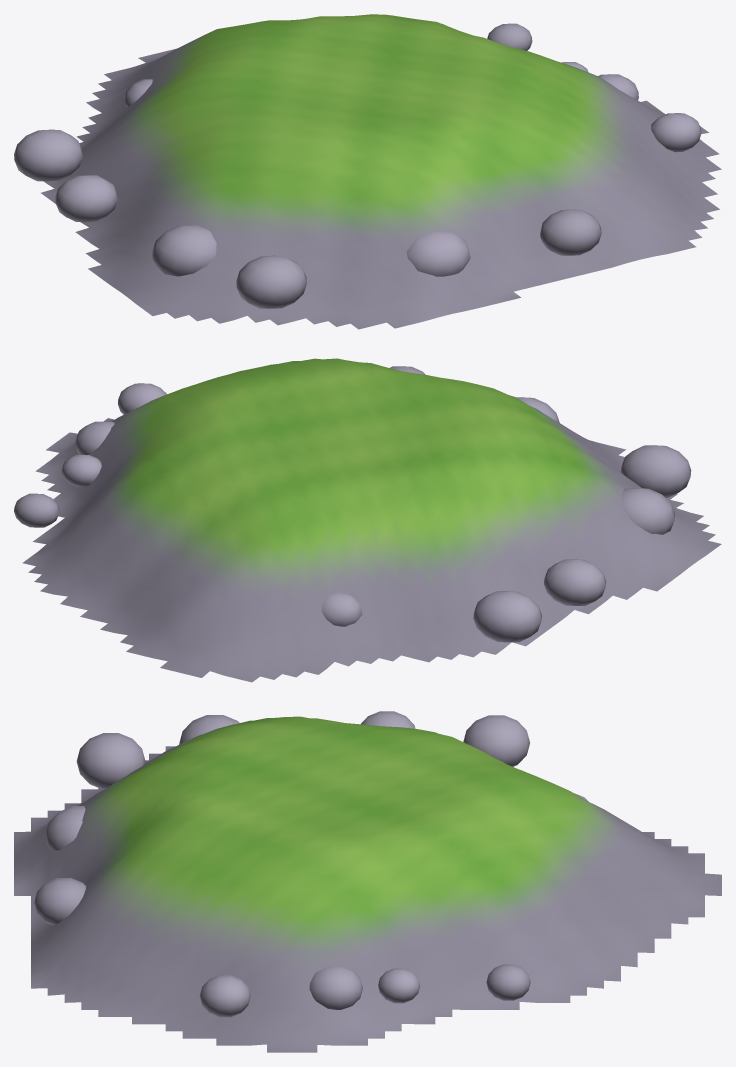
Rendered from headland.glb.
3 renders of one model, top to bottom at view 1: azimuth 30°, elevation 25°; view 2: azimuth 150°, elevation 25°; view 3: azimuth 270°, elevation 25°, orthographic. The views are drawn at different scales.
Parts seen in each view (by area): view 1: Headland_Ground, Headland_Rocks; view 2: Headland_Ground, Headland_Rocks; view 3: Headland_Ground, Headland_Rocks.
Part boxes in pixels (<box>): Headland_Ground: <box>41,14,721,329</box>; Headland_Rocks: <box>14,23,701,308</box>; Headland_Ground: <box>22,358,721,682</box>; Headland_Rocks: <box>14,366,691,642</box>; Headland_Ground: <box>14,716,721,1052</box>; Headland_Rocks: <box>34,711,588,1017</box>.
Bounding box in the file's own units: 21.5 × 3.6 × 21.
